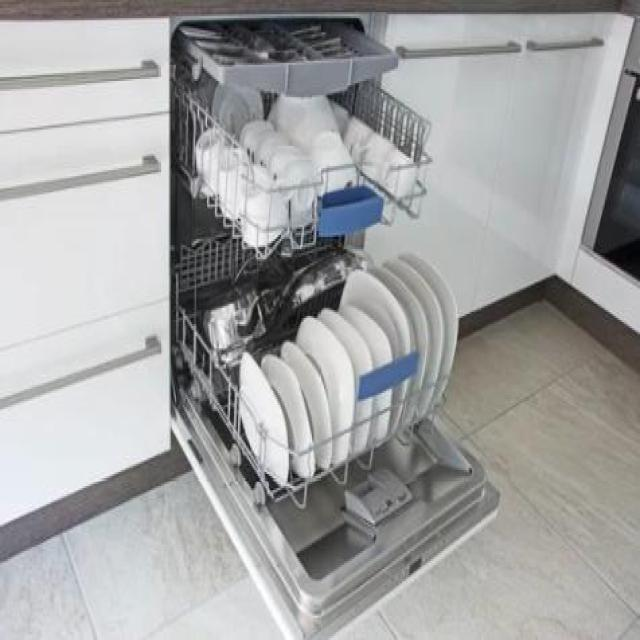dishwasher: (169, 12, 502, 638)
